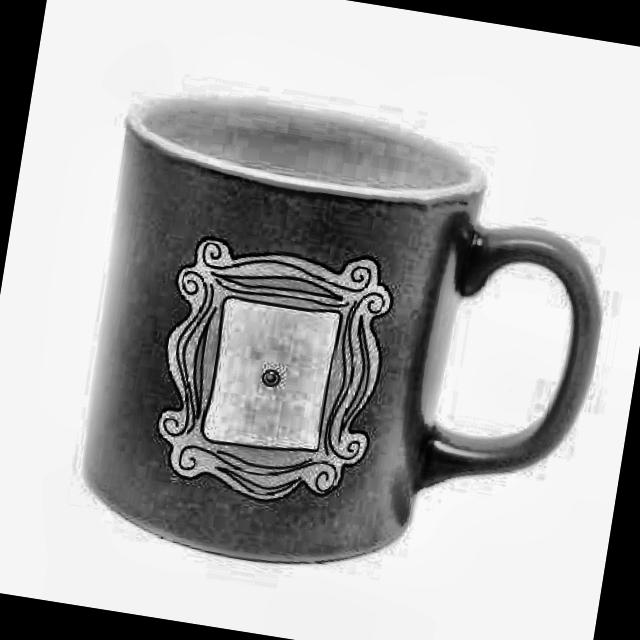Mug: (59, 80, 630, 612)
